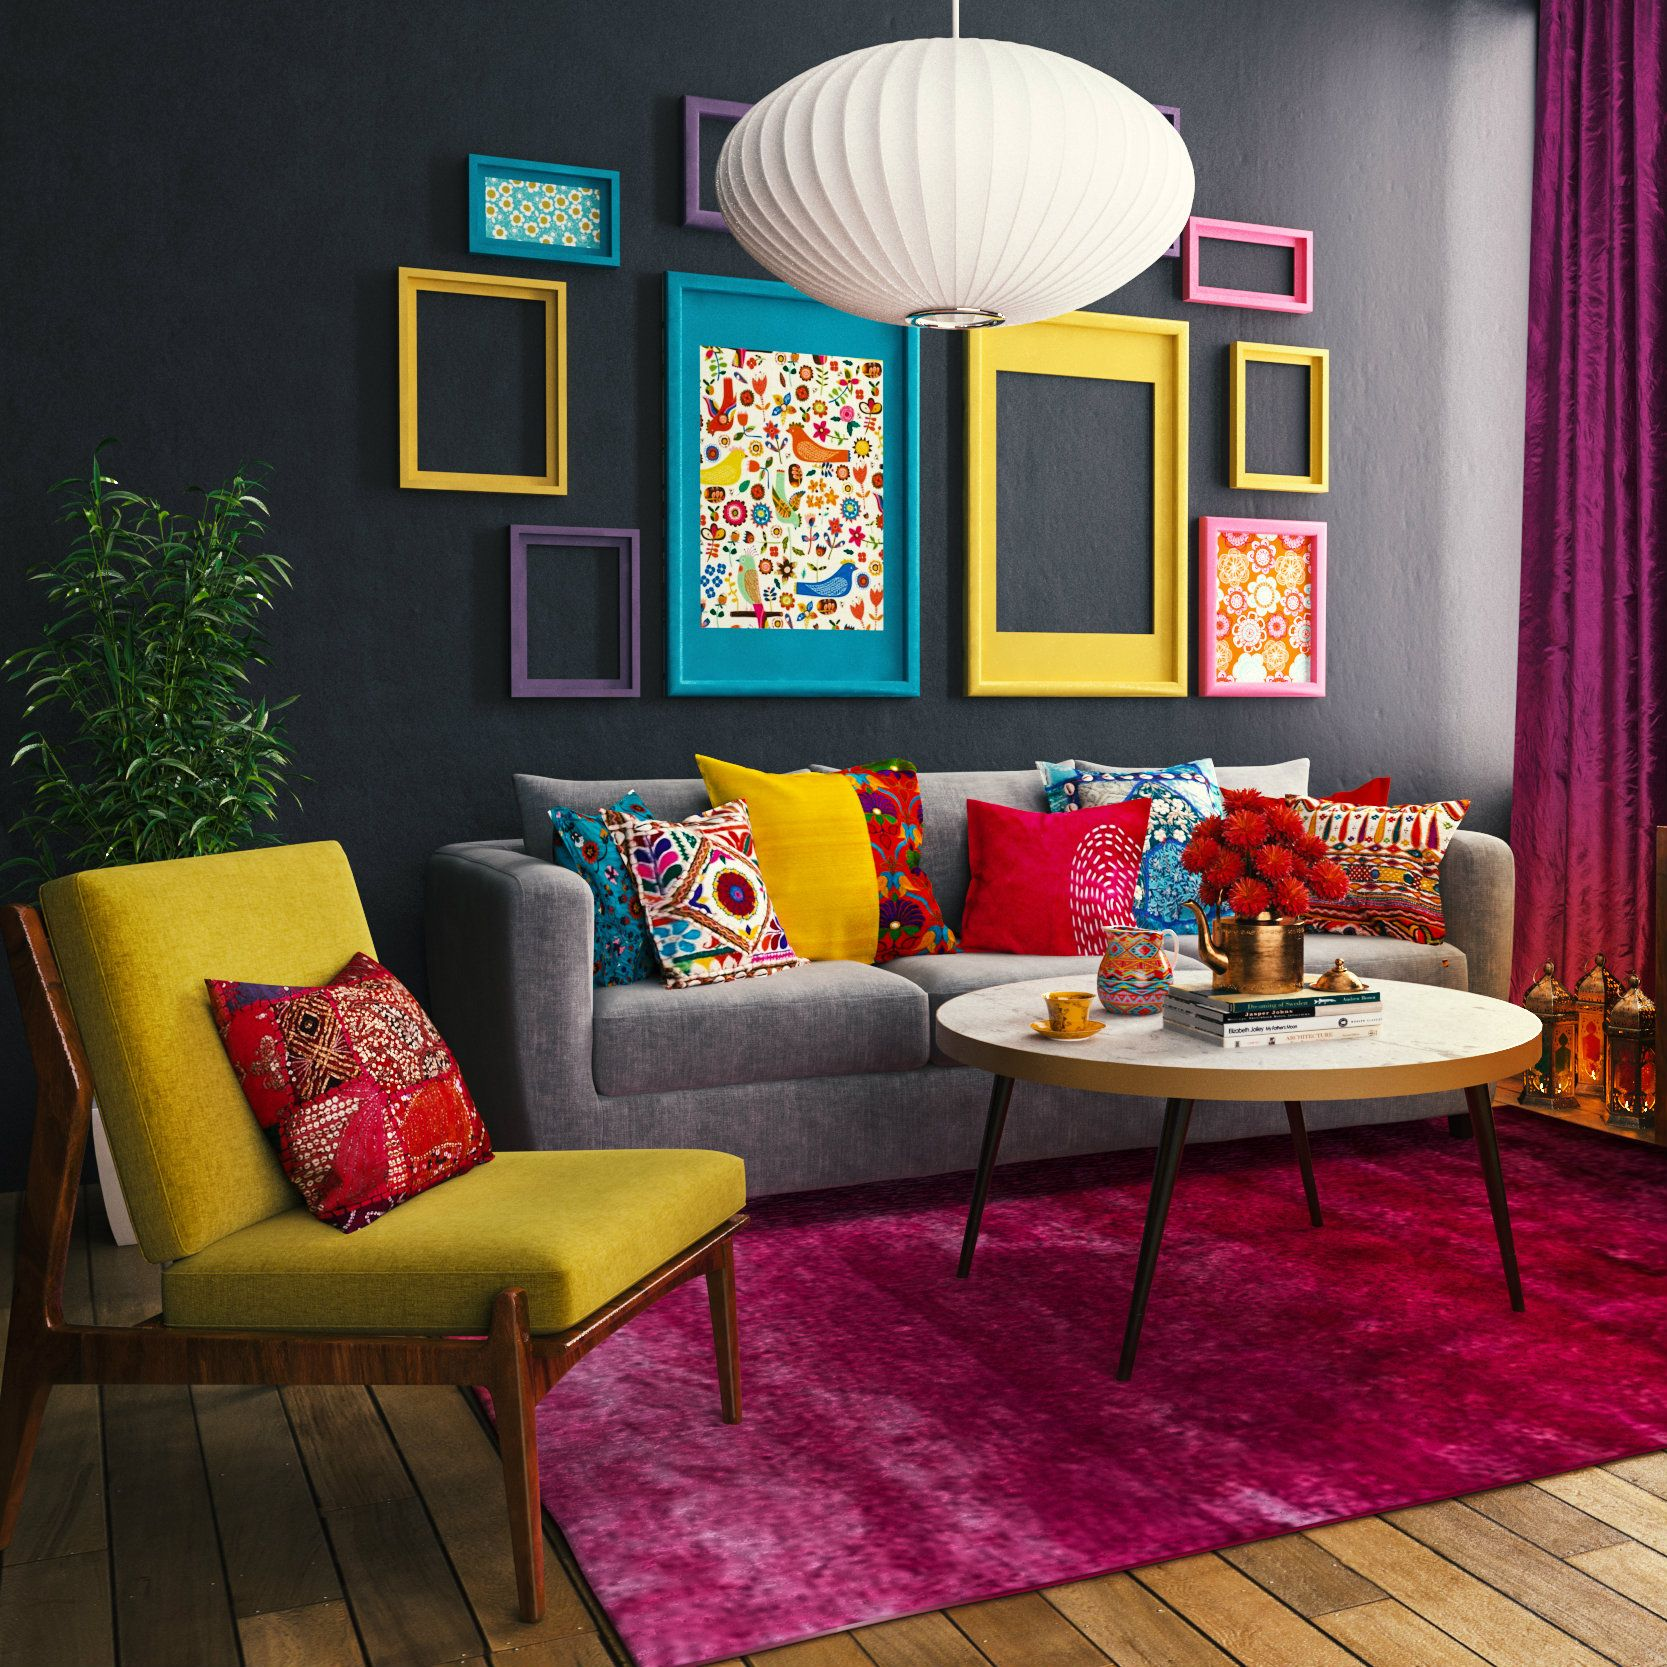kuning: (49, 850, 748, 1290), (717, 762, 875, 960)
merah: (217, 980, 492, 1188), (960, 798, 1131, 953)
